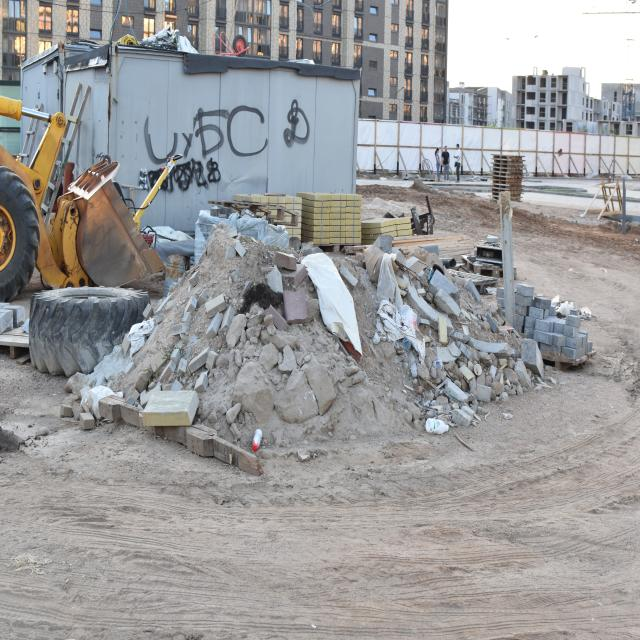entulho: (357, 236, 549, 432), (60, 359, 238, 471), (205, 282, 328, 421), (293, 244, 381, 374), (492, 274, 600, 376), (27, 286, 153, 366), (188, 208, 292, 268), (436, 231, 522, 297), (230, 190, 303, 244), (295, 189, 363, 246), (148, 227, 194, 284), (360, 210, 414, 246), (490, 155, 525, 202)
terra: (115, 216, 538, 464)
